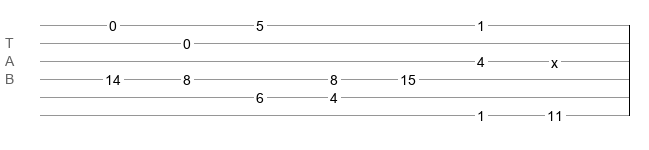0: (109, 18, 117, 28), (183, 36, 191, 46)
1: (477, 108, 485, 118), (477, 18, 485, 28)
11: (547, 108, 563, 118)
14: (105, 72, 121, 82)
15: (400, 72, 416, 82)
4: (330, 90, 338, 100), (477, 54, 485, 64)
5: (256, 18, 264, 28)
6: (256, 90, 264, 100)
8: (183, 72, 191, 82), (330, 72, 338, 82)
x: (551, 55, 558, 63)
